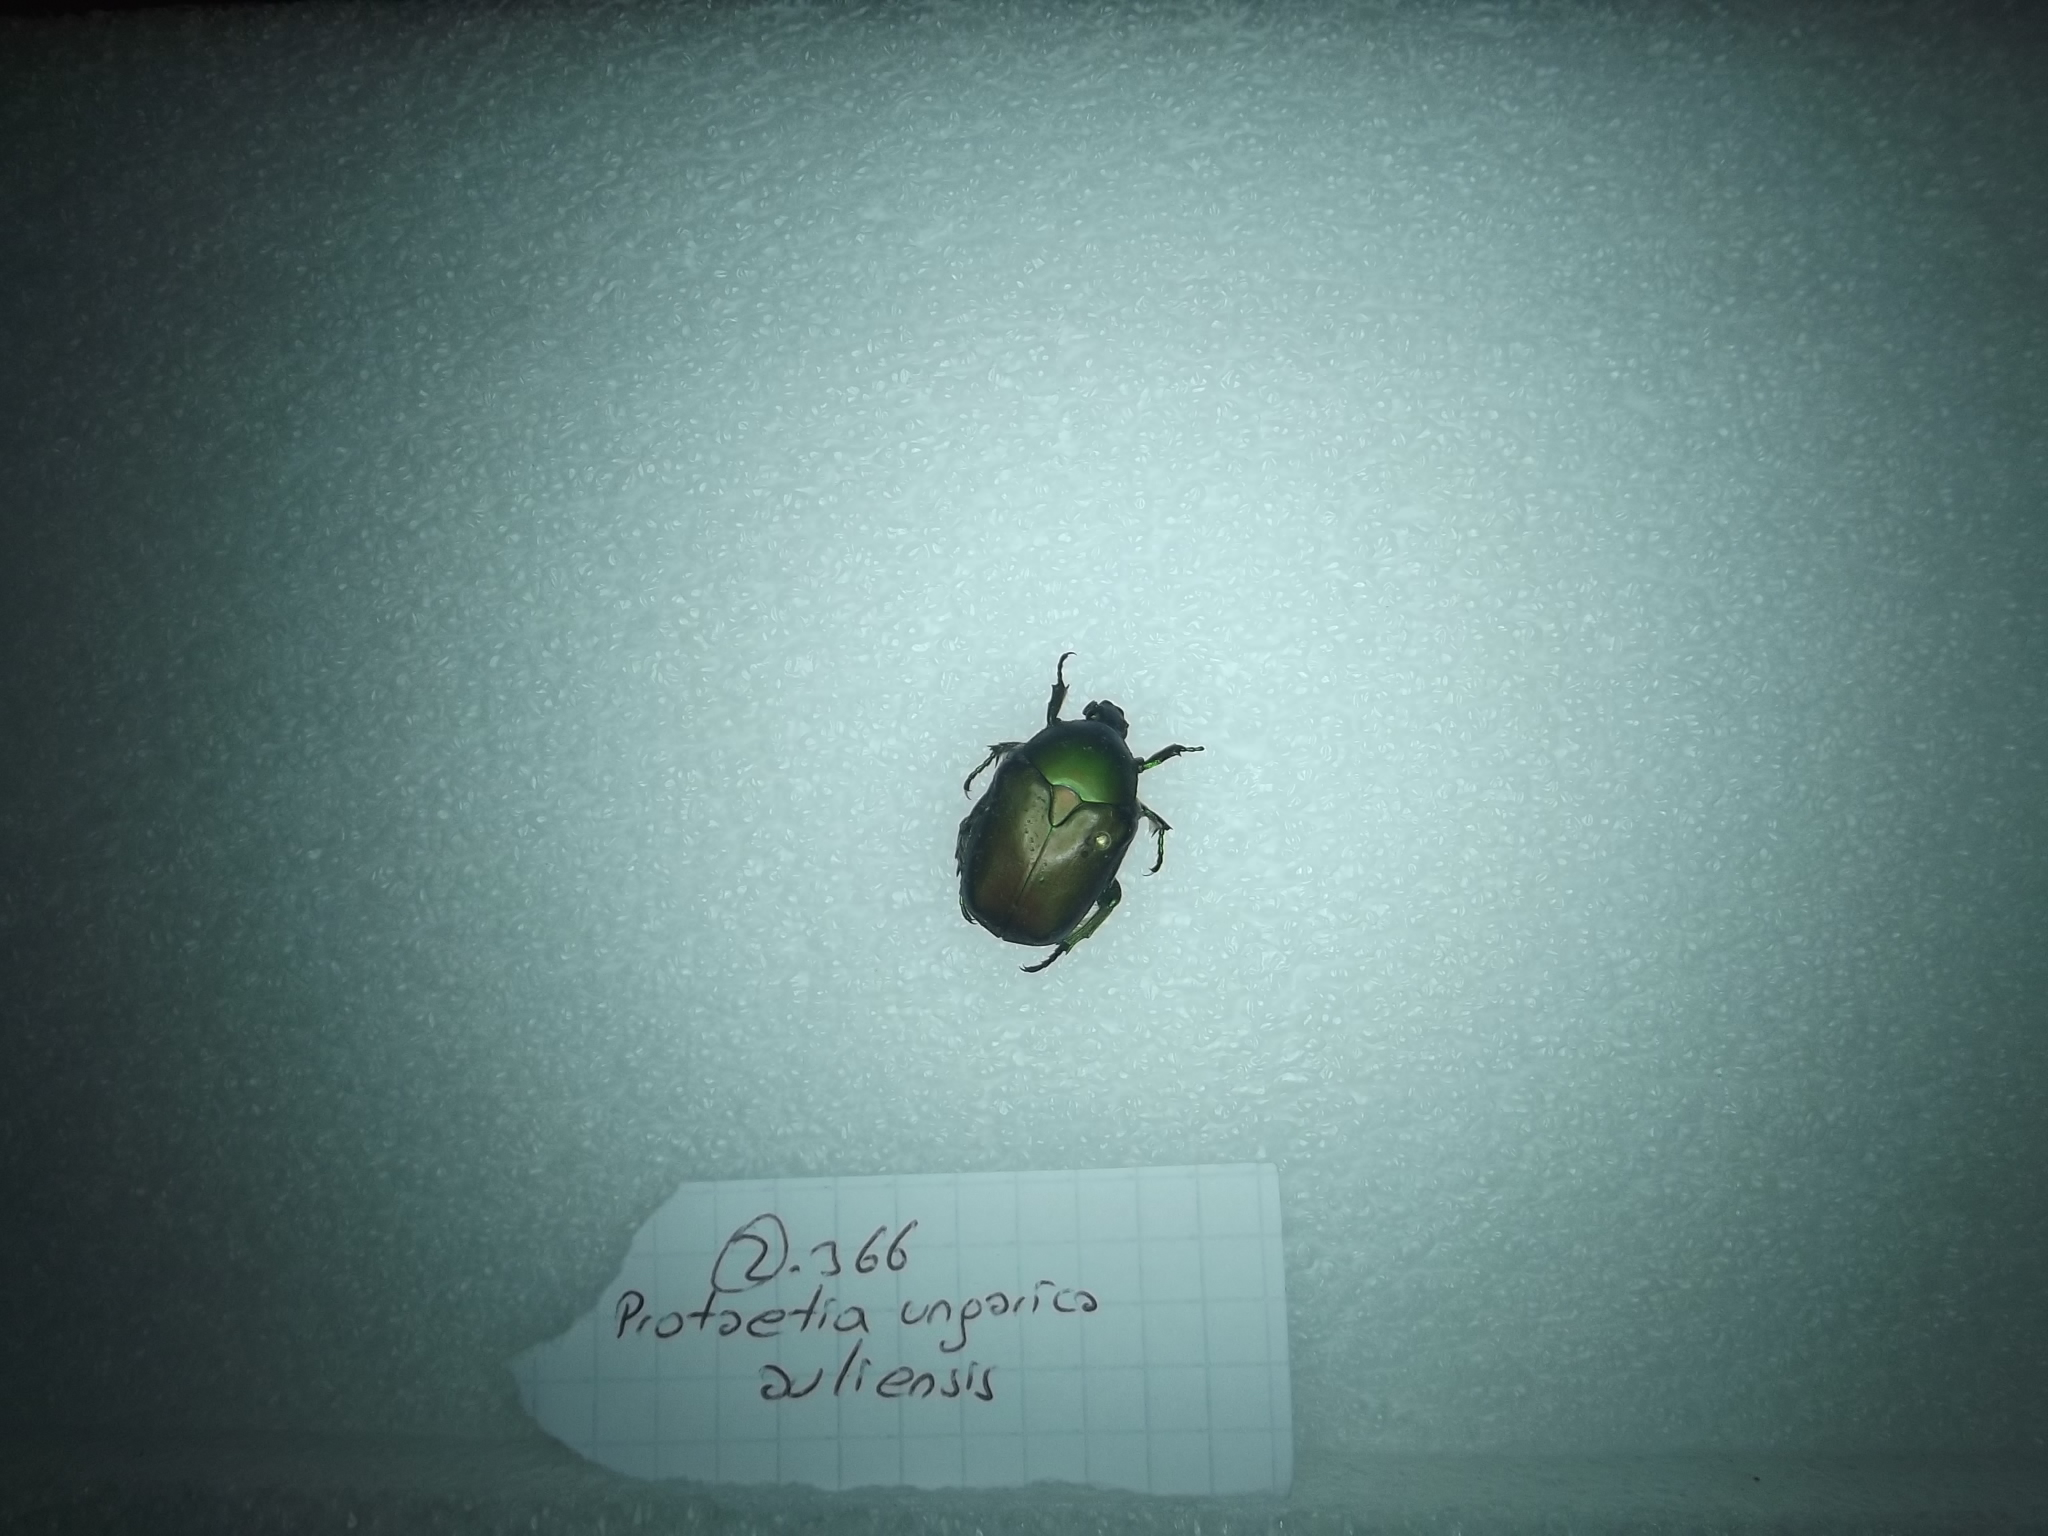Protaetia_ungarica_auliensis: (950, 645, 1209, 966)
